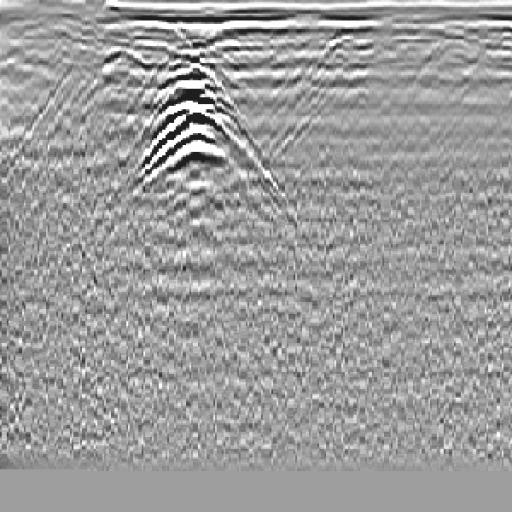metalic: (122, 55, 254, 209)
